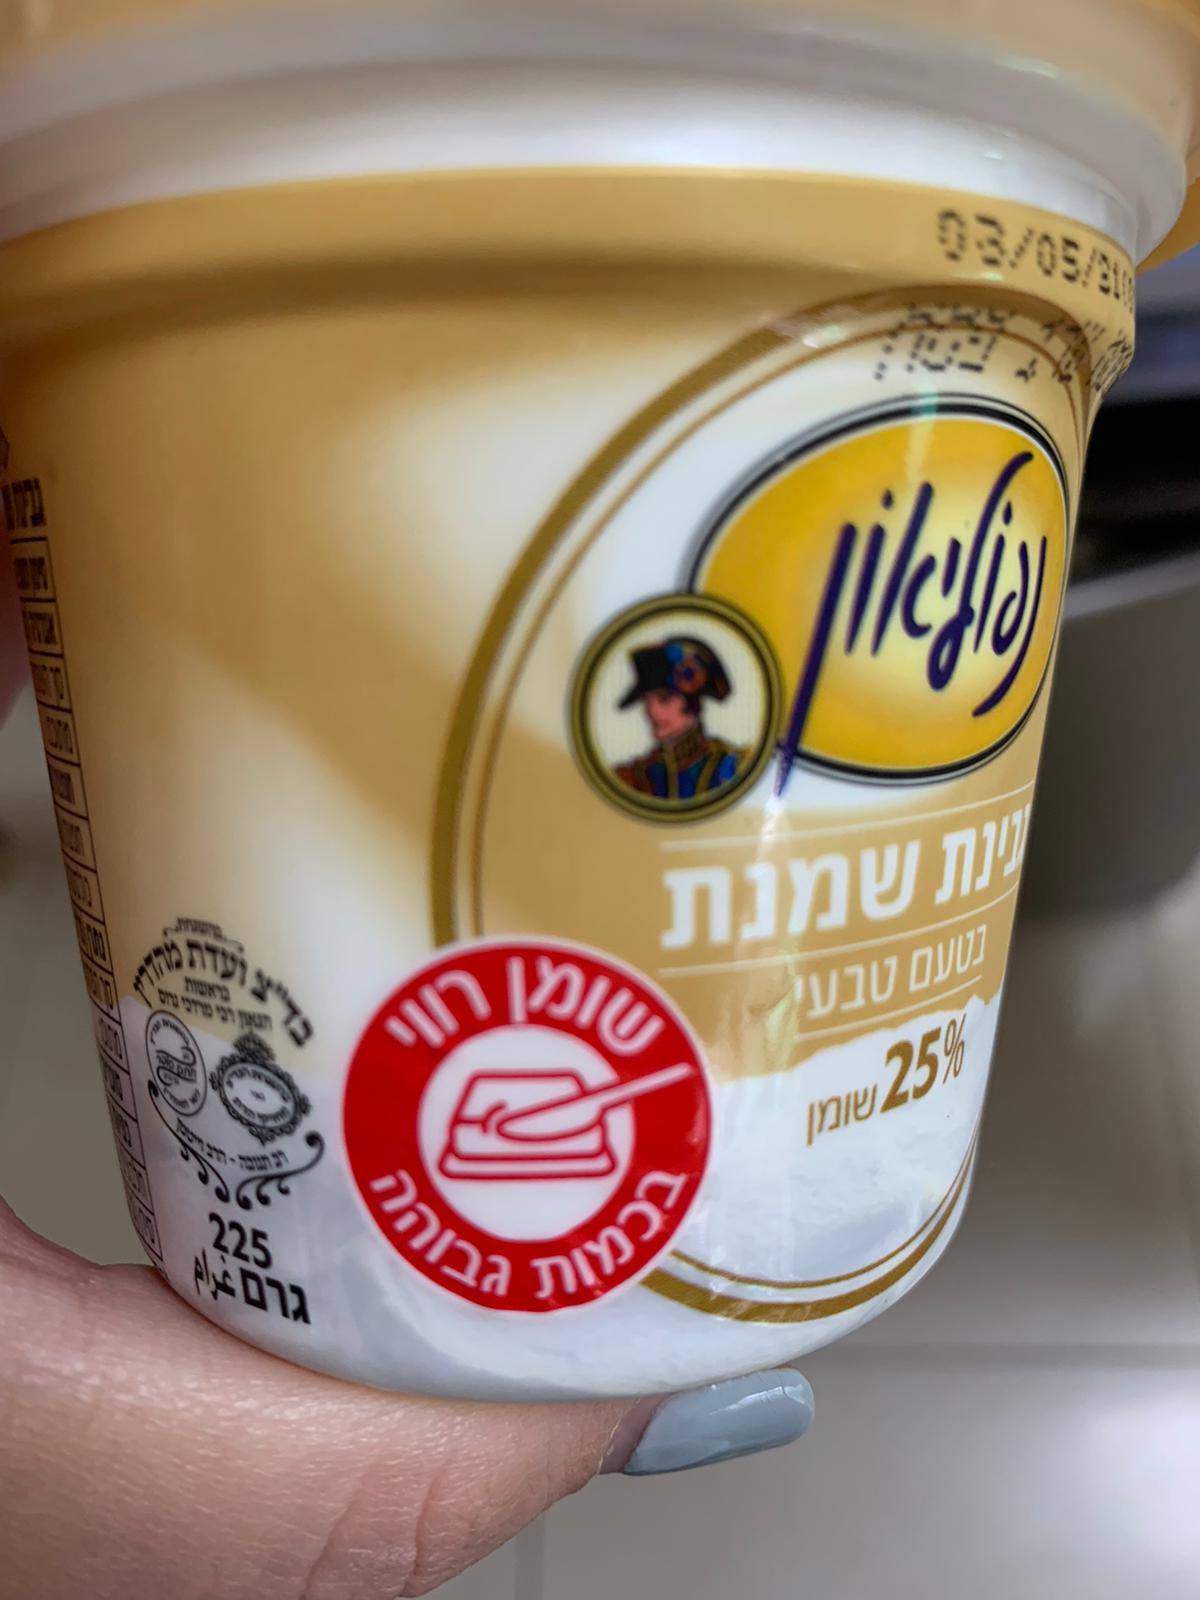fat: (337, 940, 716, 1317)
